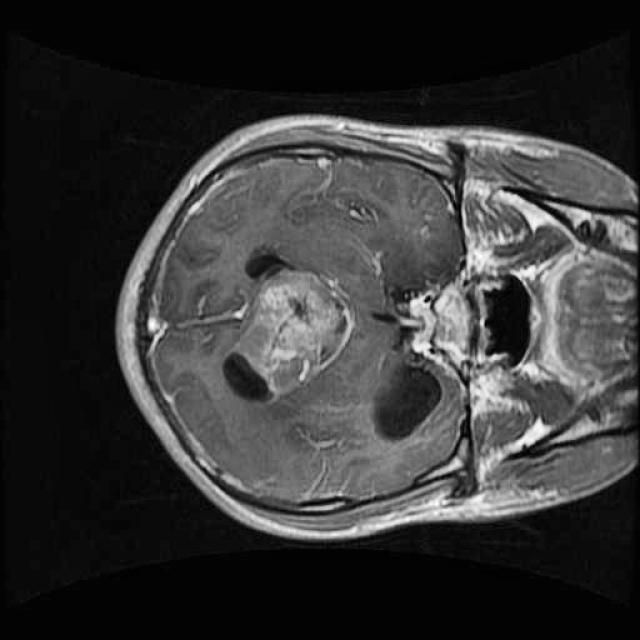Tumor: (235, 249, 365, 403)
